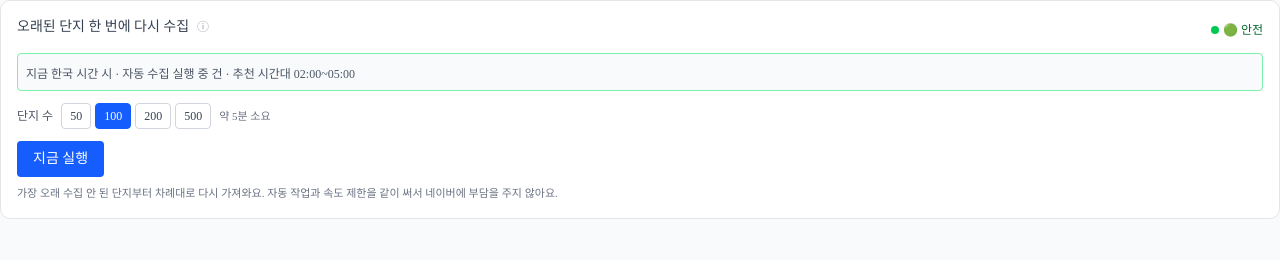
Test: BulkRecrawlCard › 실행 성공 시 '시작됨 — 한 번에 N개 단지' 한글 문구를 보여준다
Note: statusQuery 가 로딩 중이면 버튼이 disabled 라 클릭이 무시된다 — 활성화까지 대기
Click the button "지금 실행".
click(60, 159)  # box [17,141,104,177]
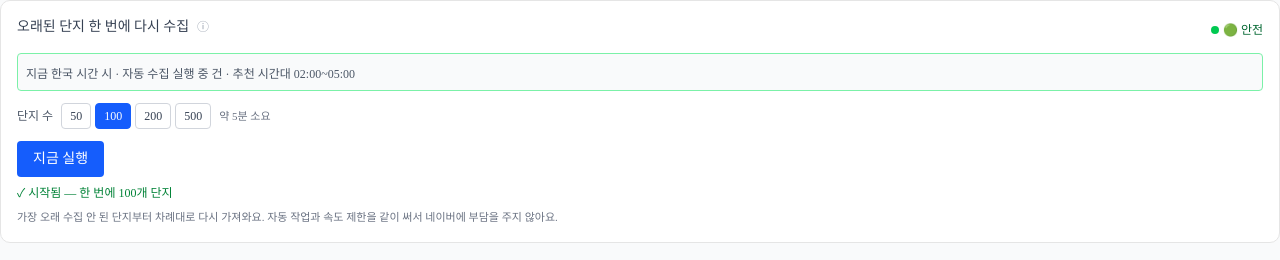
expect the text "✓ 시작됨 — 한 번에 100개 단지" is shown: met, box [17,186,173,200]
